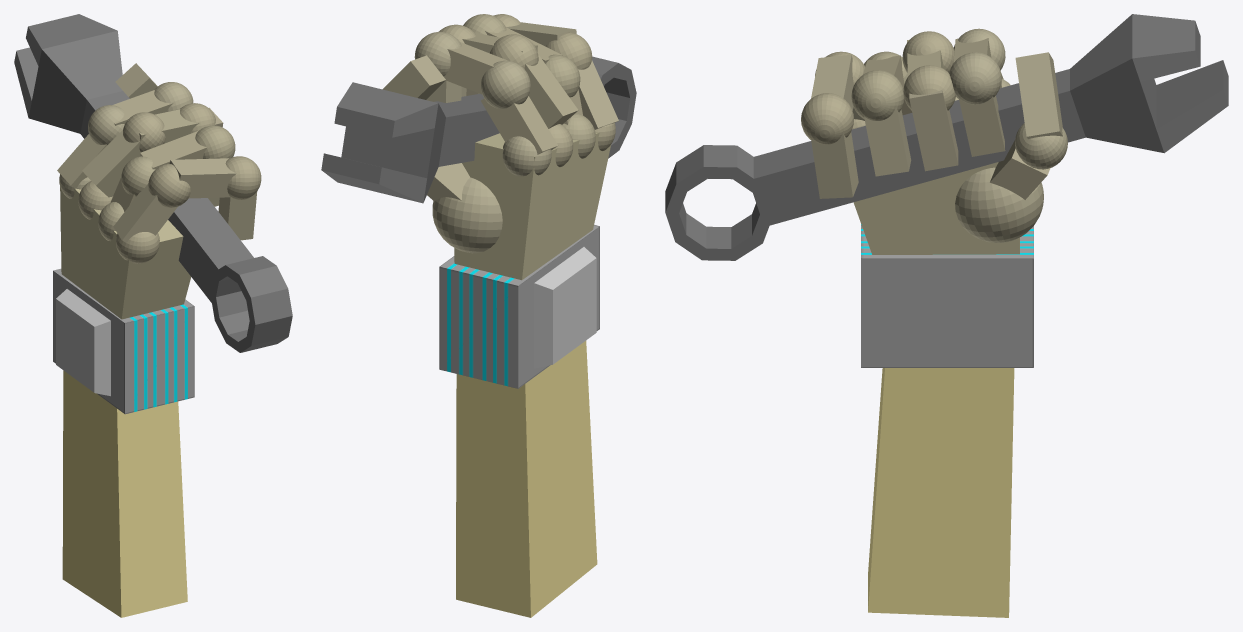
File: wrench.fbx
3 views of the same model, side by side, from view 1: azimuth 30°, elevation 25°; view 2: azimuth 150°, elevation 25°; view 3: azimuth 270°, elevation 25° (orthographic). The views are drawn at different scales.
Parts seen in each view (by area): view 1: Cube.019; view 2: Cube.019; view 3: Cube.019.
Boxes of the visible parts, x1,y1,x2,y2 form: Cube.019: (14,14,292,617); Cube.019: (321,14,636,617); Cube.019: (665,14,1228,617).
Size of the model in its own units: 225 by 744 by 651.
